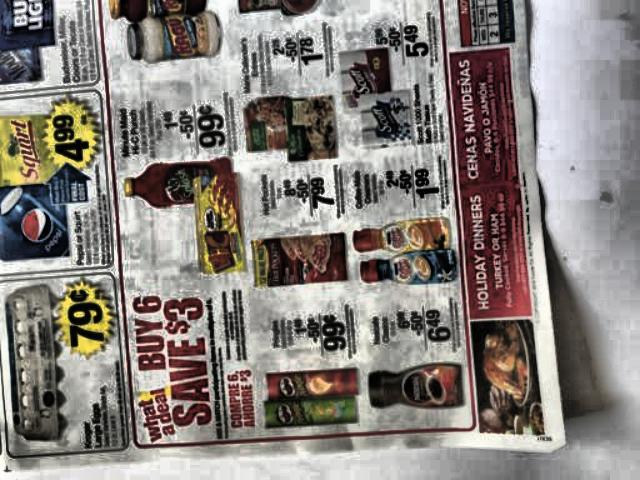Paper: (0, 0, 581, 455)
